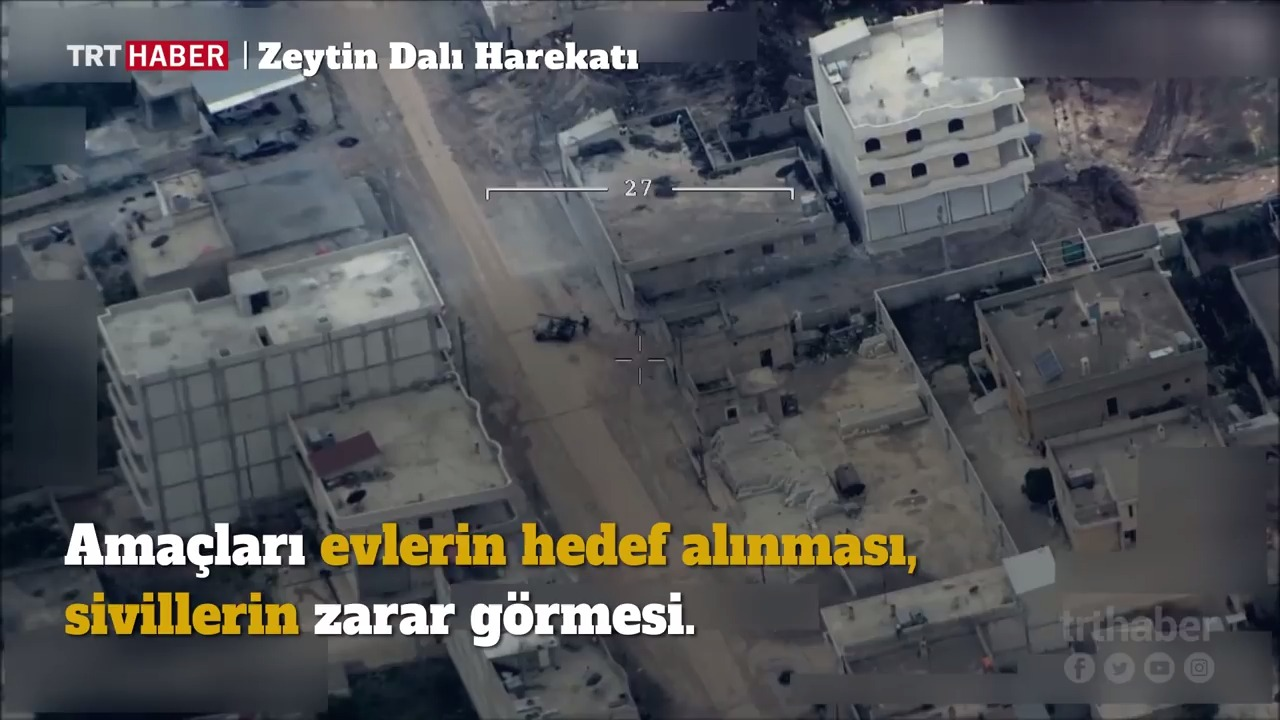arac: (230, 127, 310, 162), (210, 94, 275, 126), (528, 309, 580, 345)
bina: (571, 75, 830, 317), (812, 0, 1041, 256), (965, 252, 1214, 436), (285, 361, 526, 537)
insan: (579, 306, 600, 336)
